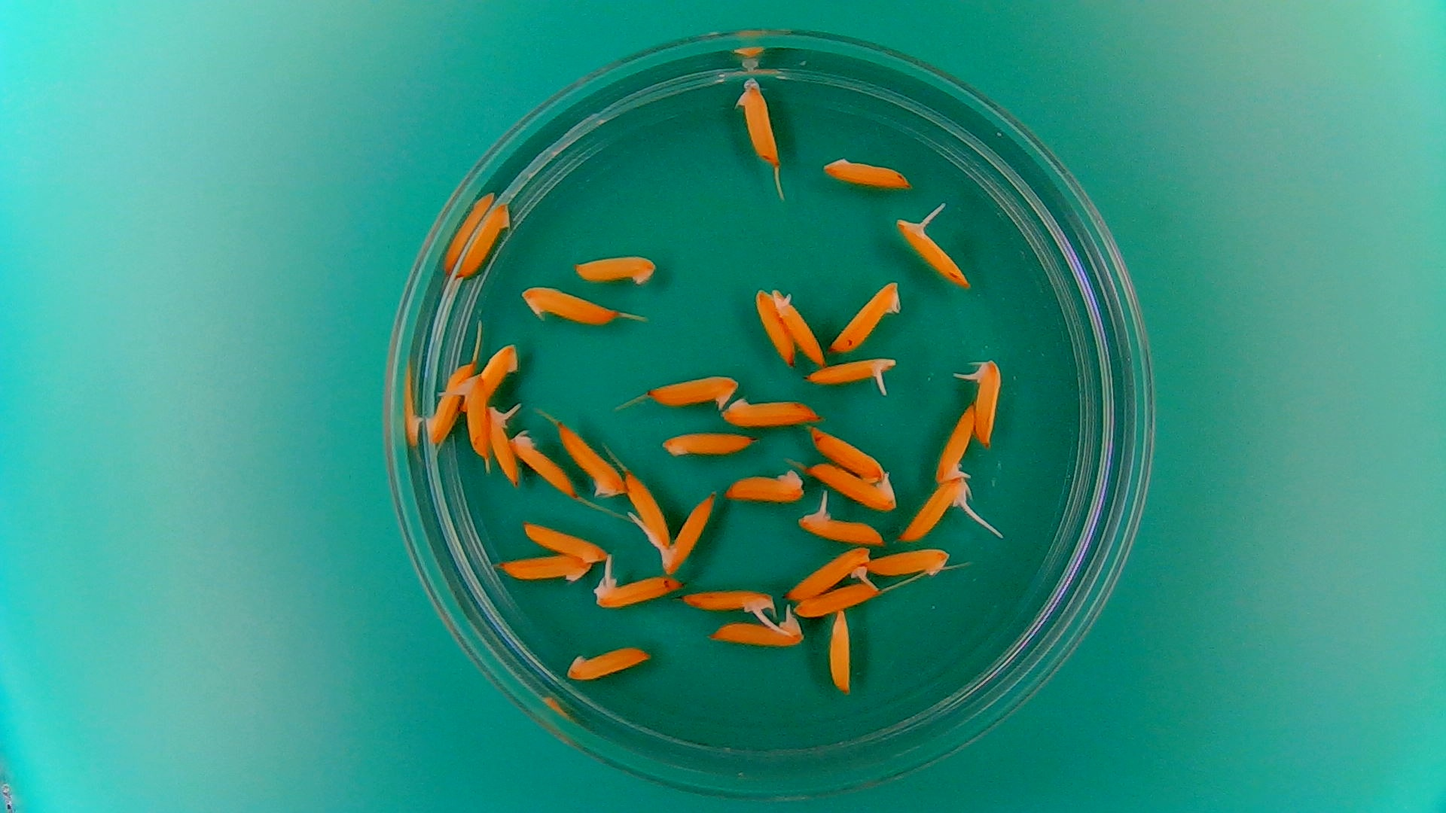no: (826, 276, 905, 355), (556, 419, 627, 501), (639, 367, 743, 416), (510, 425, 577, 499), (807, 424, 891, 482), (518, 280, 620, 327), (459, 342, 523, 416), (455, 200, 514, 280), (622, 465, 673, 552), (562, 641, 656, 686), (819, 149, 918, 191), (519, 519, 608, 565), (719, 392, 822, 431), (719, 462, 807, 507), (490, 549, 591, 586), (790, 577, 881, 617), (739, 74, 777, 169), (752, 287, 796, 368), (656, 427, 757, 461), (865, 544, 953, 583), (423, 377, 469, 447), (570, 252, 662, 286), (825, 607, 855, 696)
yes: (895, 218, 975, 292), (786, 537, 877, 599), (898, 477, 978, 544), (804, 457, 896, 512), (662, 489, 718, 579), (702, 607, 807, 654), (439, 373, 492, 464), (768, 285, 825, 367), (932, 400, 977, 489), (969, 357, 1005, 448), (484, 406, 521, 493), (595, 577, 685, 611), (795, 508, 885, 541), (806, 357, 898, 387), (684, 589, 777, 615)
